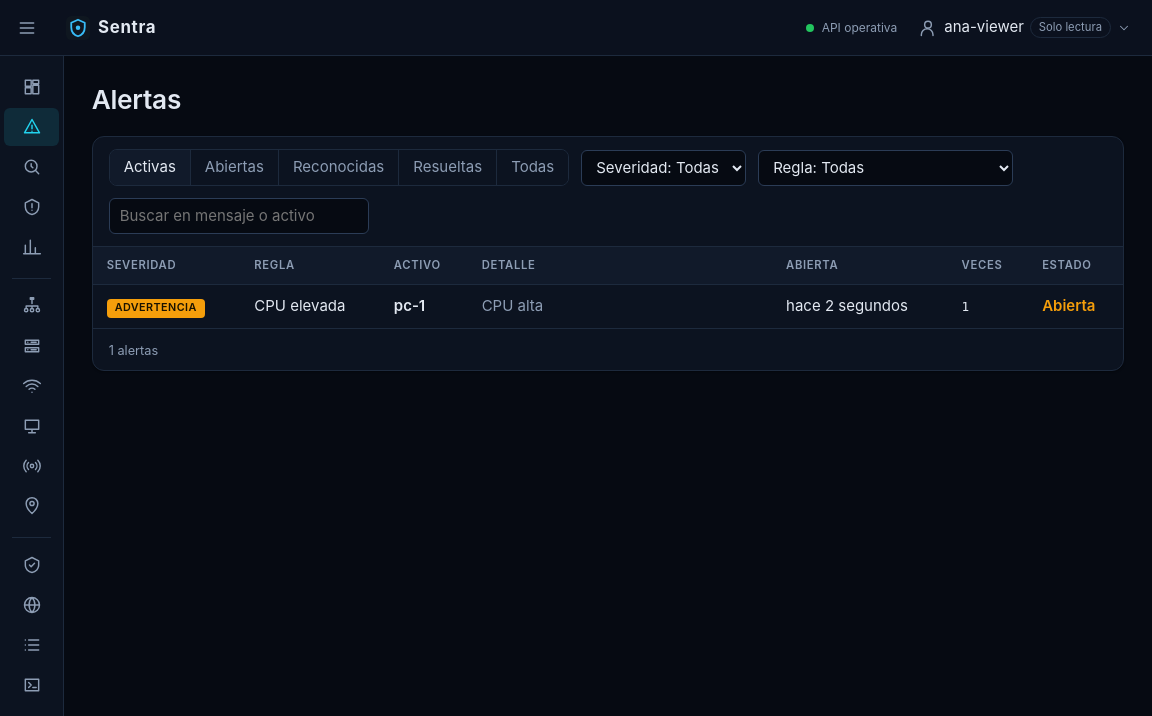
alertas por rol › viewer: ve la alerta pero no puede reconocerla ni resolverla
The image size is (1152, 716).
Click the text "CPU alta" at {"x": 512, "y": 306}, box x1=468 y1=285 x2=772 y2=328
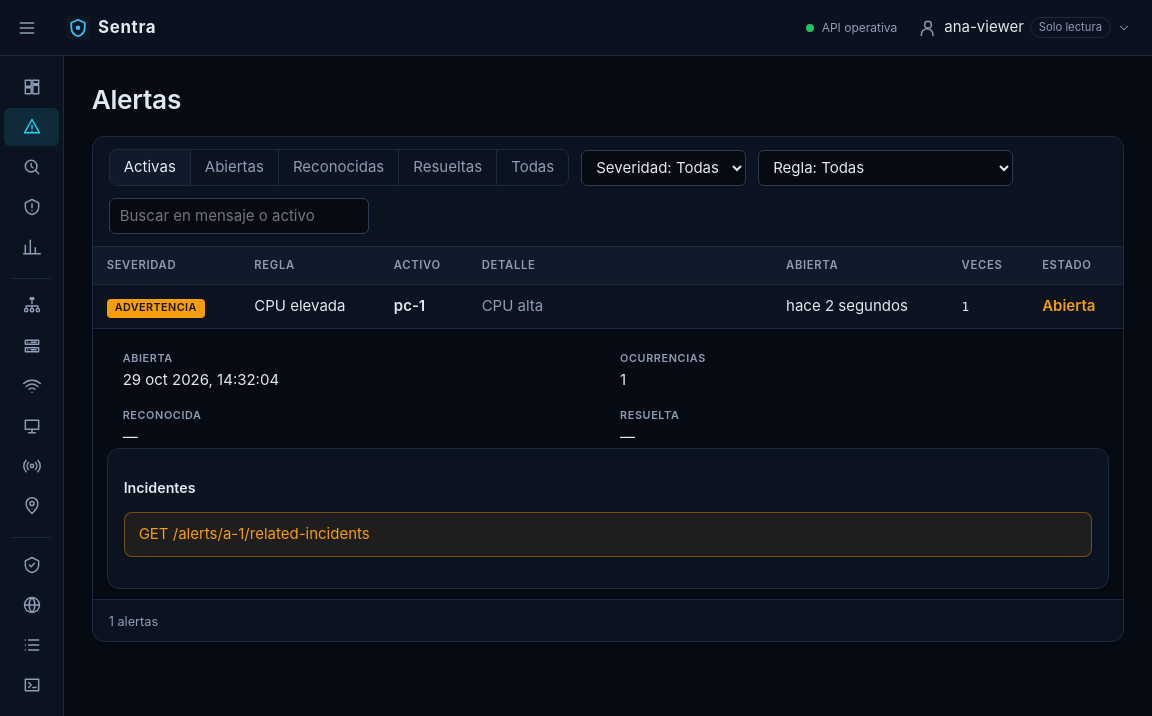
Expected: the text "Ocurrencias" is shown, x1=620 y1=352 x2=706 y2=365
